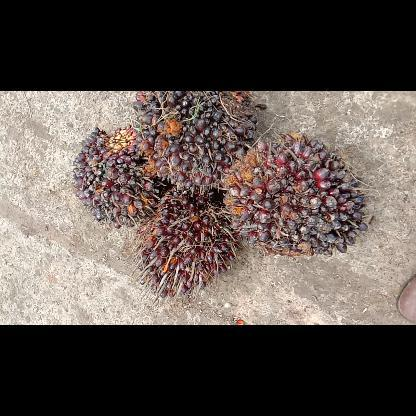Kurang masak: (223, 129, 372, 259), (128, 91, 262, 195), (135, 181, 243, 302), (69, 123, 174, 231)
